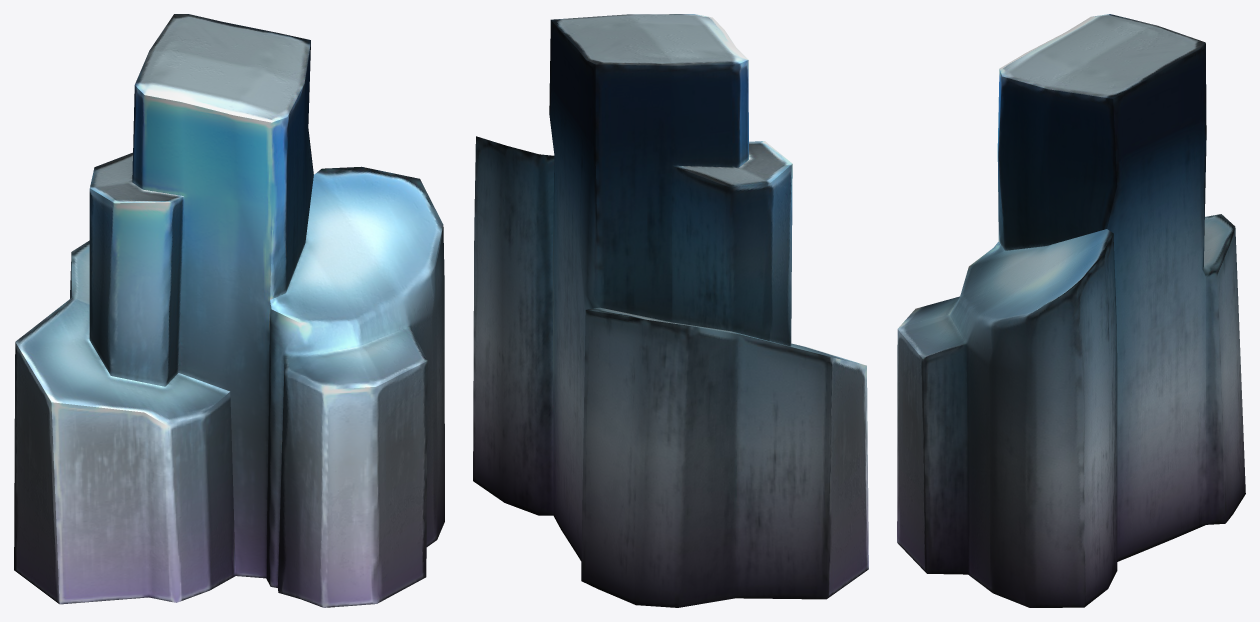
The model's file is ore_item_blue_dream.glb.
The picture shows the model from 3 angles, left to right: view 1: azimuth 30°, elevation 25°; view 2: azimuth 150°, elevation 25°; view 3: azimuth 270°, elevation 25°; orthographic projection. The views are drawn at different scales.
Visible parts, largest first — view 1: ore_item_blue; view 2: ore_item_blue; view 3: ore_item_blue.
Part boxes in pixels (x1=…): ore_item_blue: x1=14, y1=14, x2=444, y2=607; ore_item_blue: x1=473, y1=14, x2=868, y2=607; ore_item_blue: x1=897, y1=14, x2=1245, y2=607.
Bounding box in the file's own units: 0.2517 × 0.3159 × 0.2068.
Materials: 1 (1 with a texture image).
